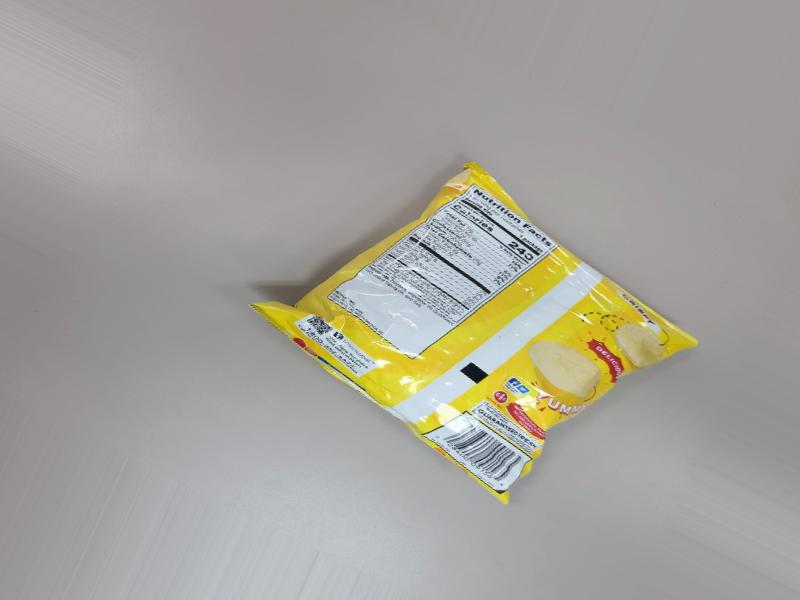lays: (221, 156, 702, 517)
